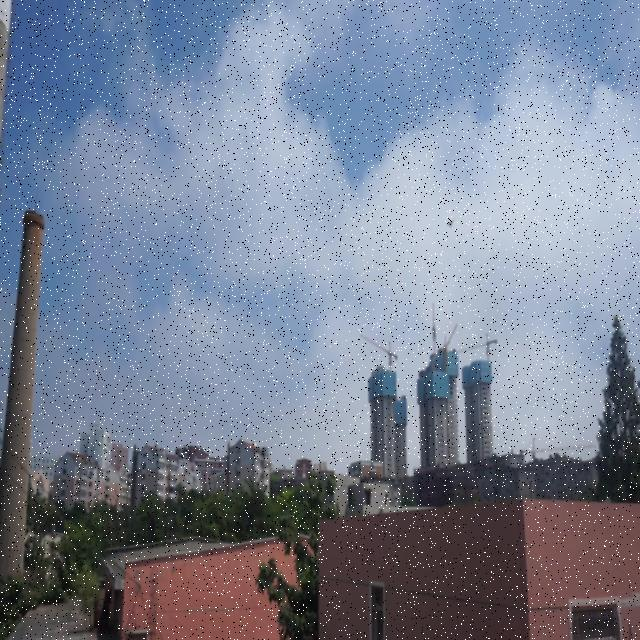UAV: (446, 218, 456, 228)
